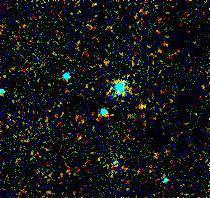star: (126, 92, 156, 122)
